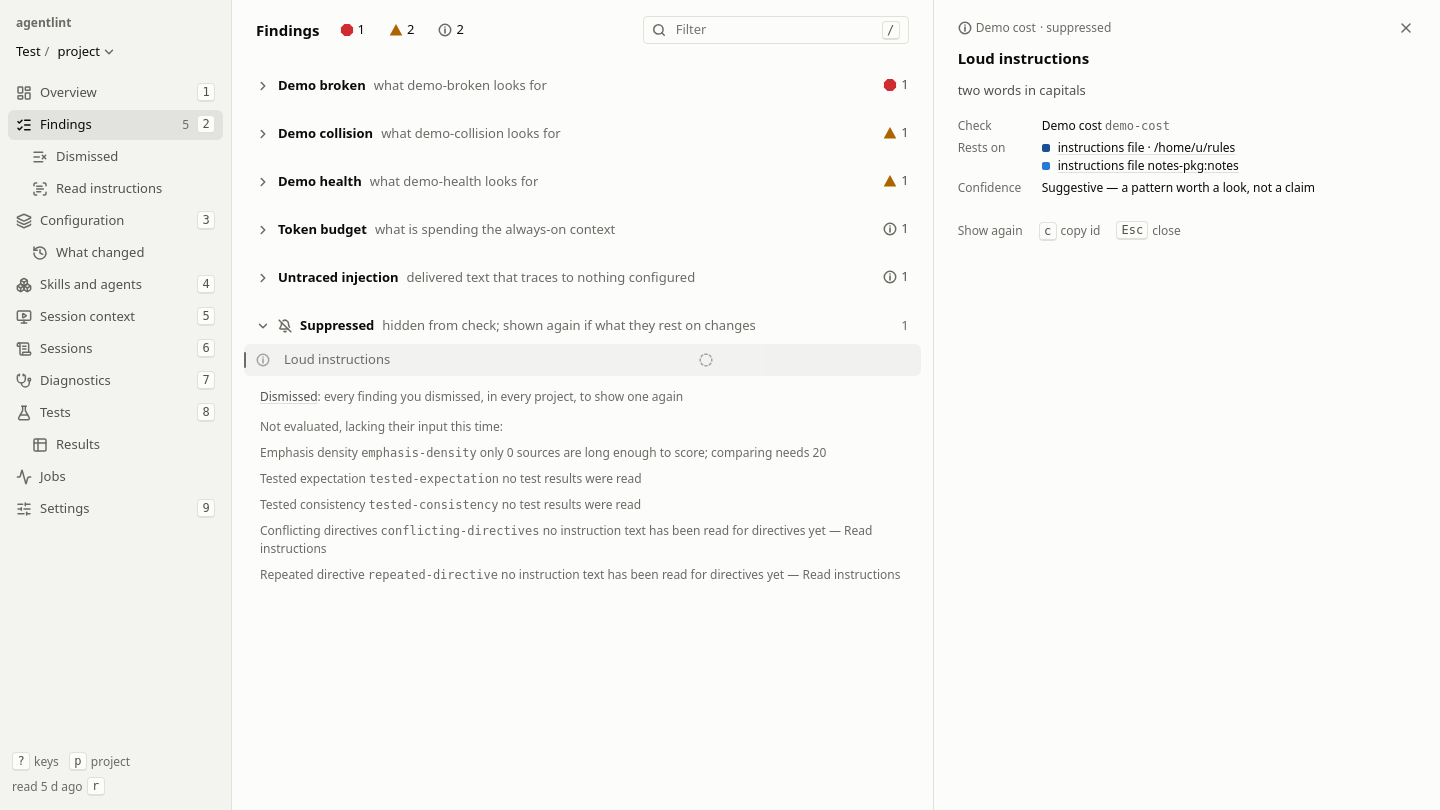
Dismiss, in a finding › shows a dismissed finding again
expect the element named "Finding" is shown: met, box [933,0,1439,809]
Press s
Click the button "Show again" at (990, 230), box [958,222,1022,240]
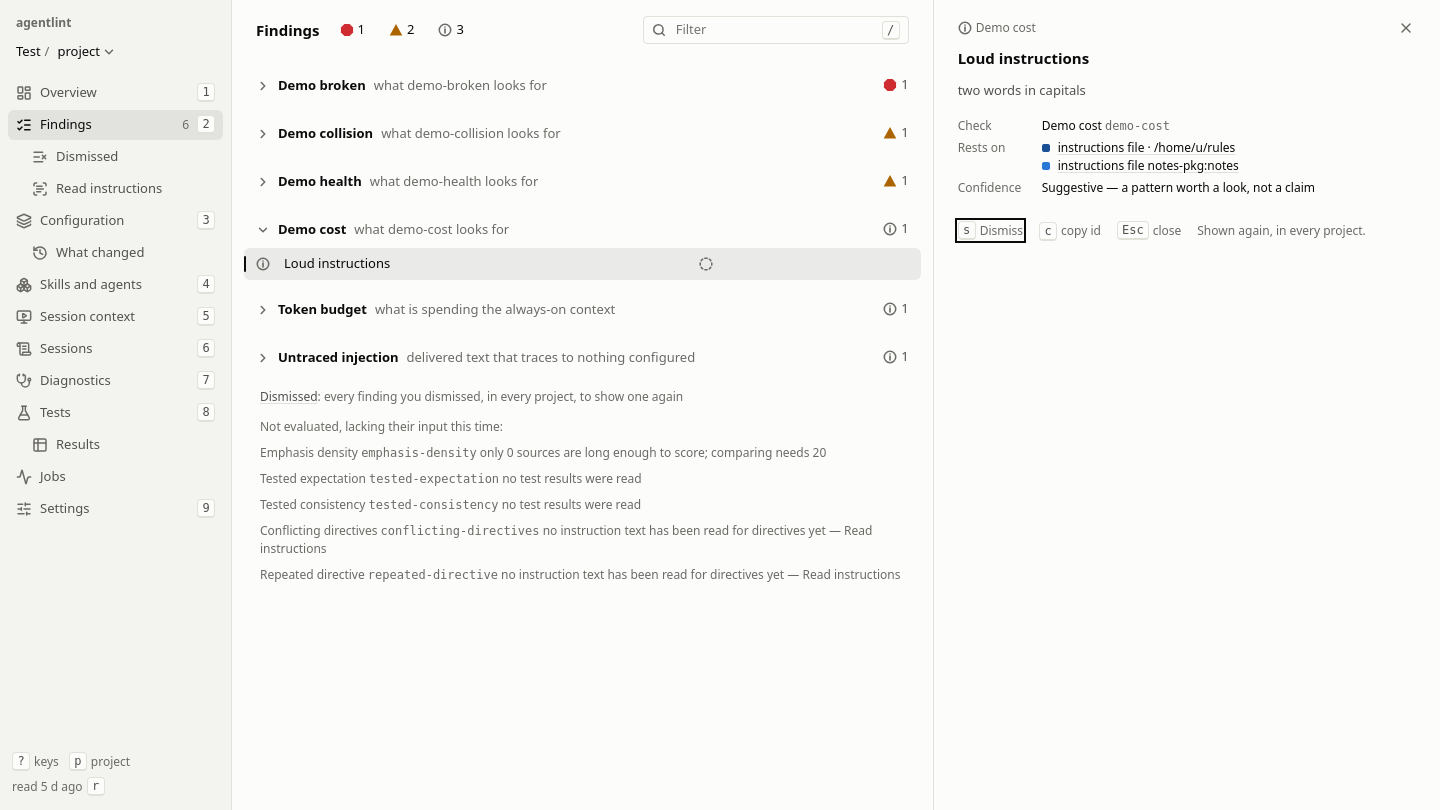
expect the button with class "detail-meta" no longer shows "Suppressed": met
expect the button "s Dismiss" is shown: met, box [958,221,1023,240]
